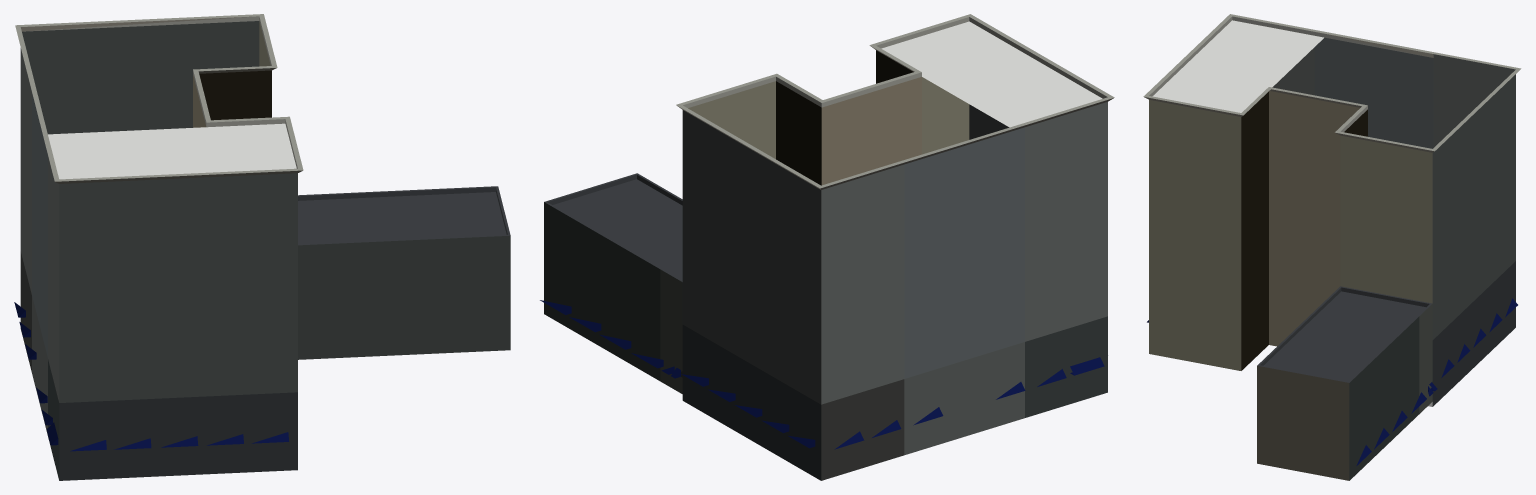
File: volunteer-state-life-building.glb
The picture shows the model from 3 angles, left to right: view 1: azimuth 30°, elevation 25°; view 2: azimuth 150°, elevation 25°; view 3: azimuth 270°, elevation 25°; orthographic projection. The views are drawn at different scales.
Parts seen in each view (by area): view 1: LOD0; view 2: LOD0; view 3: LOD0.
Part boxes in pixels (<box>): LOD0: <box>14,14,510,480</box>; LOD0: <box>540,14,1114,480</box>; LOD0: <box>1143,14,1521,480</box>.
Size of what is drawn, in the model's own units: 71.56 by 40.08 by 53.24.
2 materials, 2 textured.
